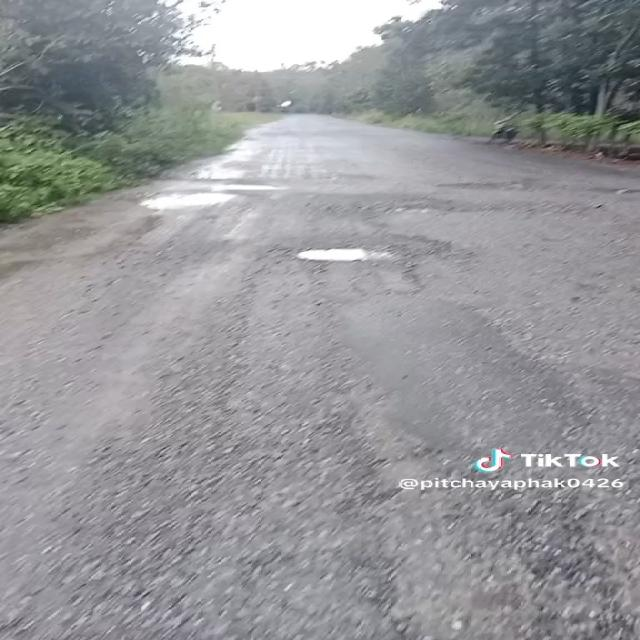Poth-hole: (255, 232, 482, 288)
